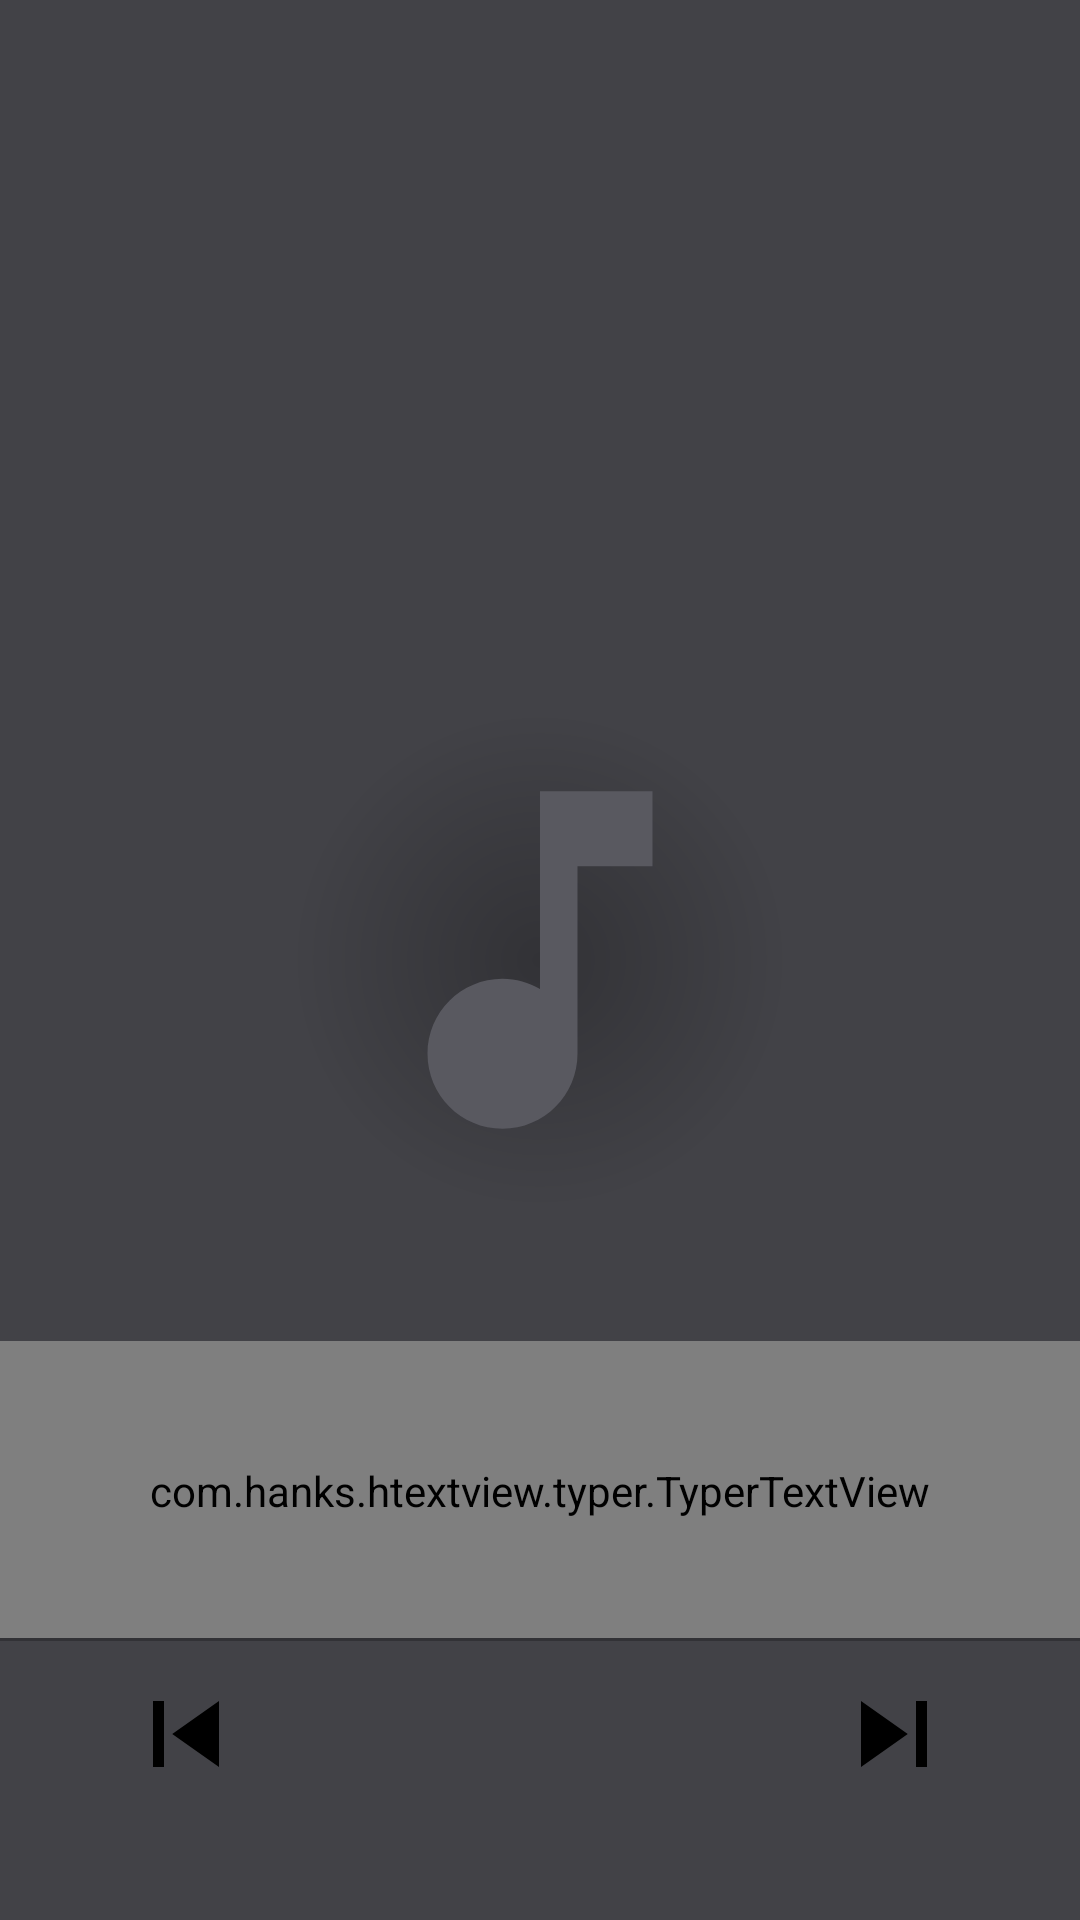

Icon bounding boxes for this 1080 × 1920 phone screenshot, format (x1, y1, x2, y2):
music note: (415, 791, 665, 1129)
next: (861, 1701, 927, 1767)
previous: (153, 1701, 219, 1767)
